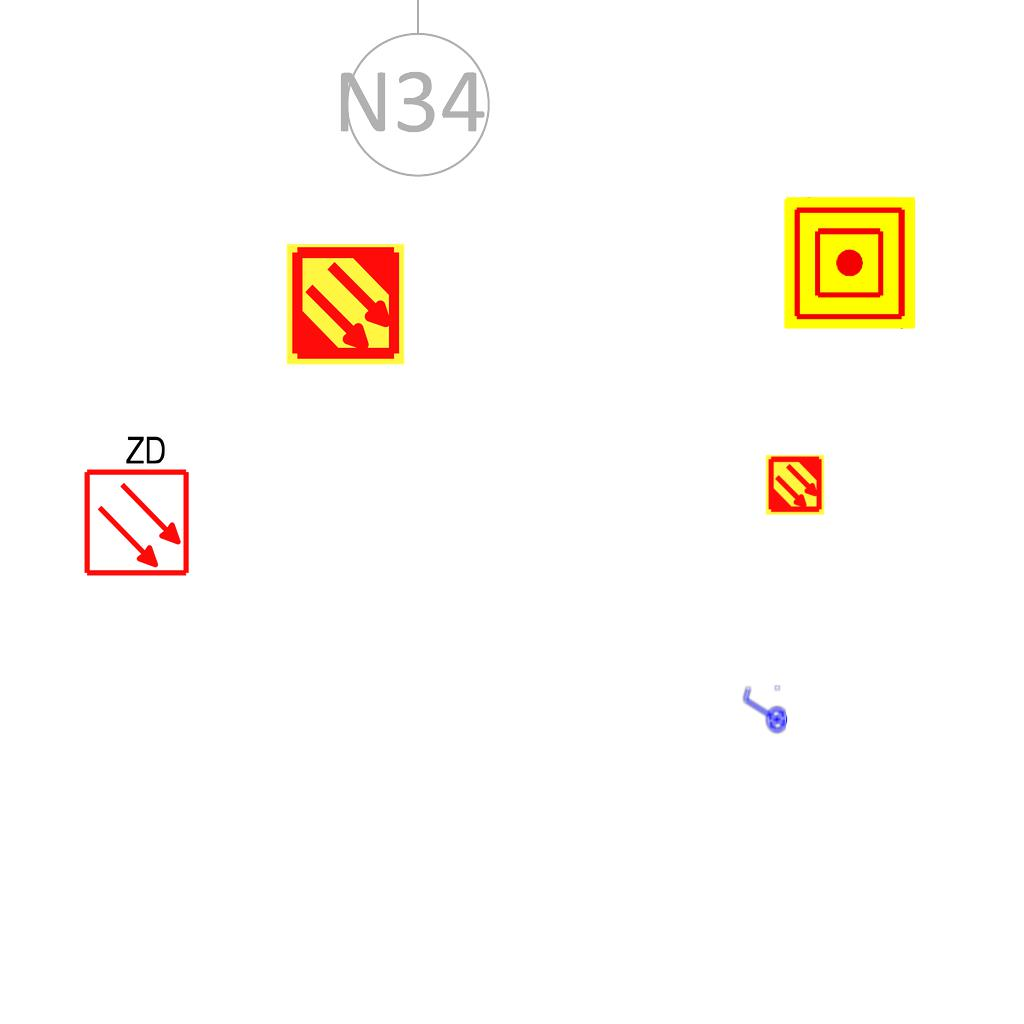ASR_Ansaugrauchmelder: (283, 242, 408, 367), (764, 454, 826, 516)
Ausschalter_beleuchtet: (740, 683, 788, 739)
NAM-Nichtautomatischer_Melder: (784, 197, 916, 329)
ZD_Melder_in_Zwischendecke_mit_Revisionsoeffnung_mind_40_x_40_cm: (78, 429, 192, 578)
